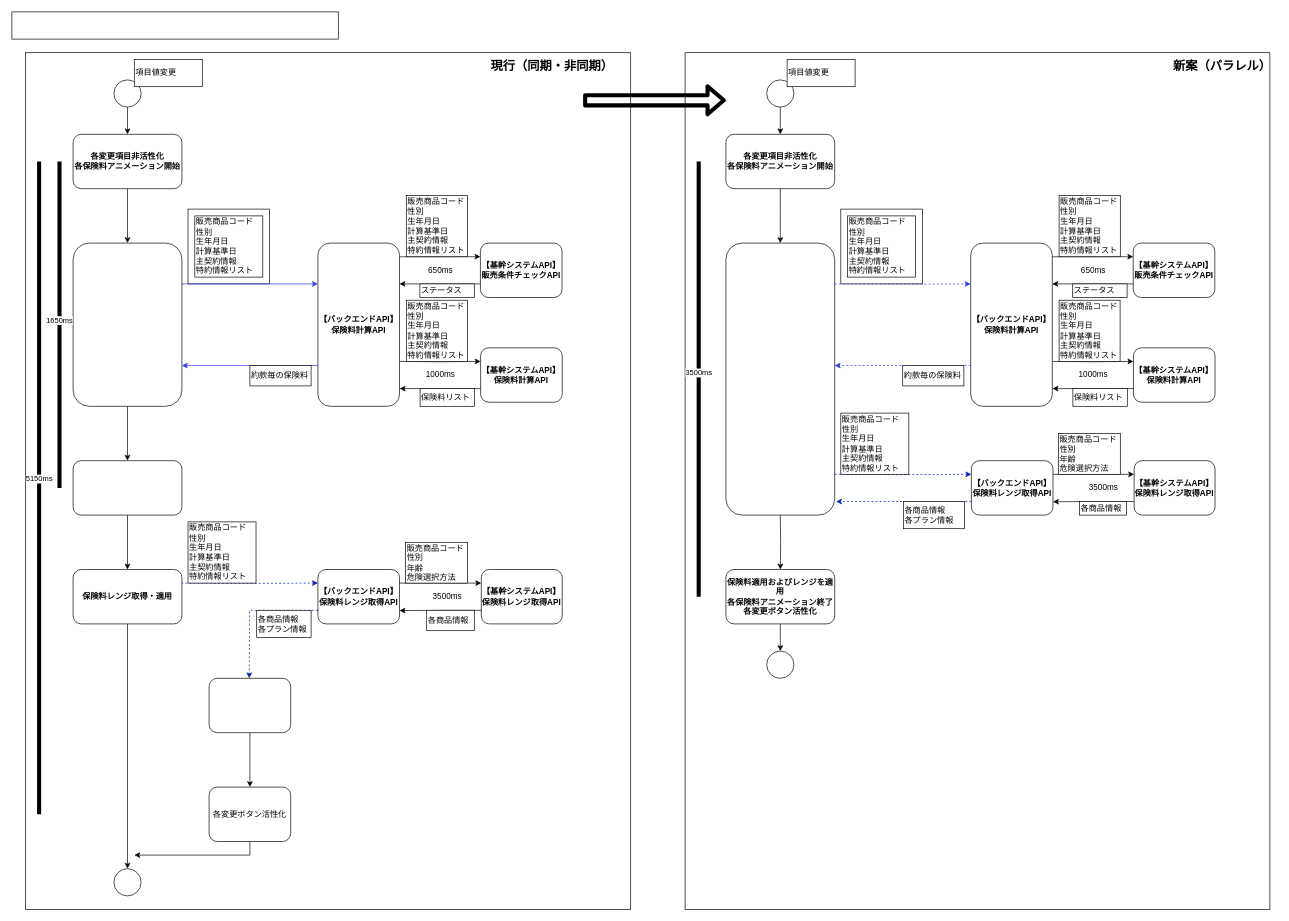
Some shapes in this 1289 by 921 pixel diagram are drawn without their labels. Each missing label, with the centre of its shape:
"保険料計算API および 保険料レンジ取得API をパラレルで呼び出し 両方とも返却後に次の処理を実行" goes at [780,378].
"保険料計算後、 プラン編集情報リストと 申込商品情報リストに 保険料を適用" goes at [127,324].
"保険料計算系APIの呼び出し検討案" goes at [174,25].
"保険料適用 各保険料アニメーション終了" goes at [127,487].
"対象商品のレンジを適用" goes at [249,705].
